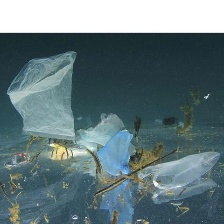plastic_bag: (4, 49, 80, 142), (134, 148, 220, 192), (73, 111, 137, 146), (95, 126, 137, 179), (148, 173, 217, 204)
